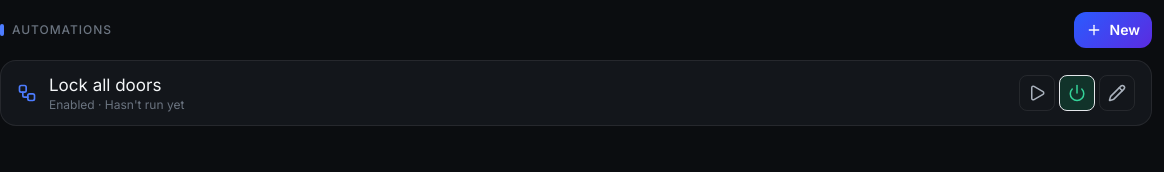
it: Automations list › runs an automation on demand and flashes a confirmation
Click the button named "Run now".
click(1037, 93)  # box left=1019, top=75, right=1055, bottom=111
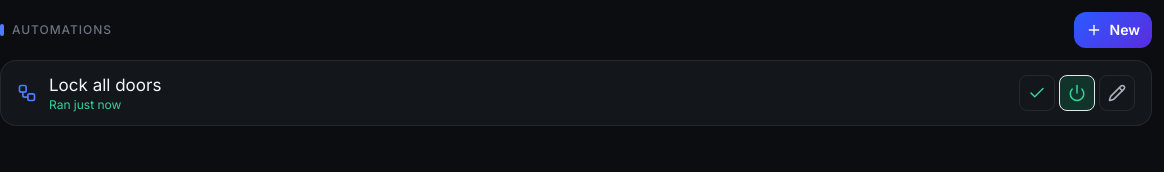
Check: the text "Ran just now" is shown, box left=49, top=97, right=121, bottom=112
